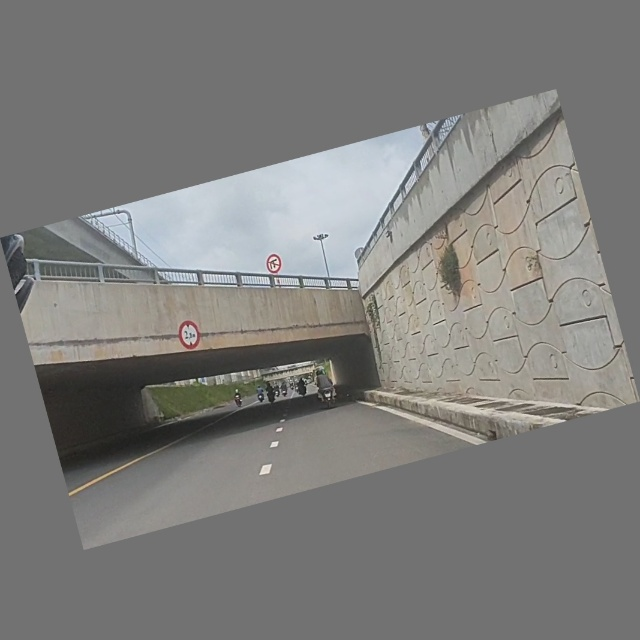P.117*: (173, 317, 205, 354)
P.124d: (264, 252, 285, 276)
